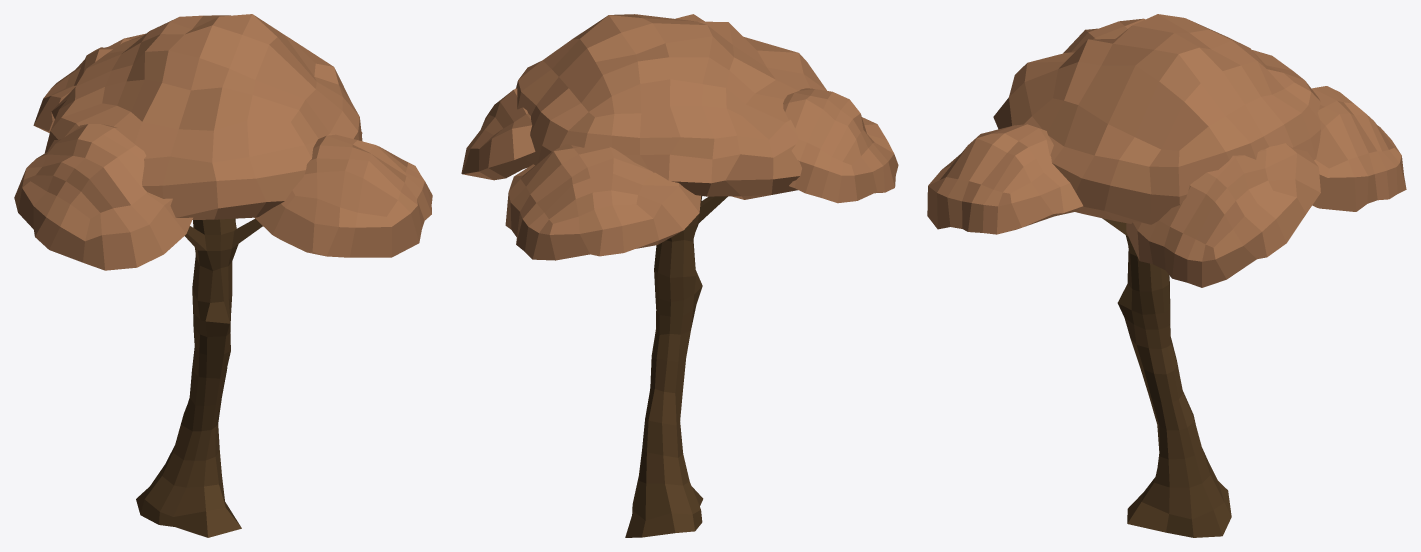
File: arv5.fbx
The picture shows the model from 3 angles, left to right: view 1: azimuth 30°, elevation 25°; view 2: azimuth 150°, elevation 25°; view 3: azimuth 270°, elevation 25°; orthographic projection.
Visible parts, largest first — view 1: arvore6:arvore6; view 2: arvore6:arvore6; view 3: arvore6:arvore6.
Part boxes in pixels (left/top/right/bottom): arvore6:arvore6: left=14, top=14, right=432, bottom=537; arvore6:arvore6: left=461, top=14, right=898, bottom=537; arvore6:arvore6: left=927, top=14, right=1406, bottom=537.
Bounding box in the file's own units: 47.99 × 62.78 × 54.36.
